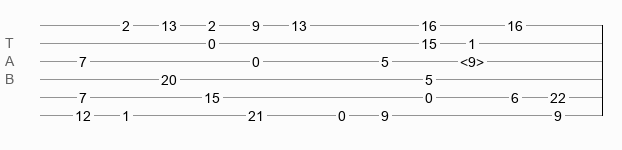0: (208, 36, 216, 46), (252, 54, 260, 64), (338, 108, 346, 118), (425, 90, 433, 100)
1: (122, 108, 130, 118), (468, 36, 476, 46)
12: (75, 108, 91, 118)
13: (161, 18, 177, 28), (291, 18, 307, 28)
15: (204, 90, 220, 100), (421, 36, 437, 46)
16: (421, 18, 437, 28), (507, 18, 523, 28)
2: (122, 18, 130, 28), (208, 18, 216, 28)
20: (161, 72, 177, 82)
21: (248, 108, 264, 118)
22: (550, 90, 566, 100)
5: (381, 54, 389, 64), (425, 72, 433, 82)
6: (511, 90, 519, 100)
7: (79, 90, 87, 100), (79, 54, 87, 64)
9: (252, 18, 260, 28), (381, 108, 389, 118), (554, 108, 562, 118)
harmonic: (460, 54, 484, 64)
